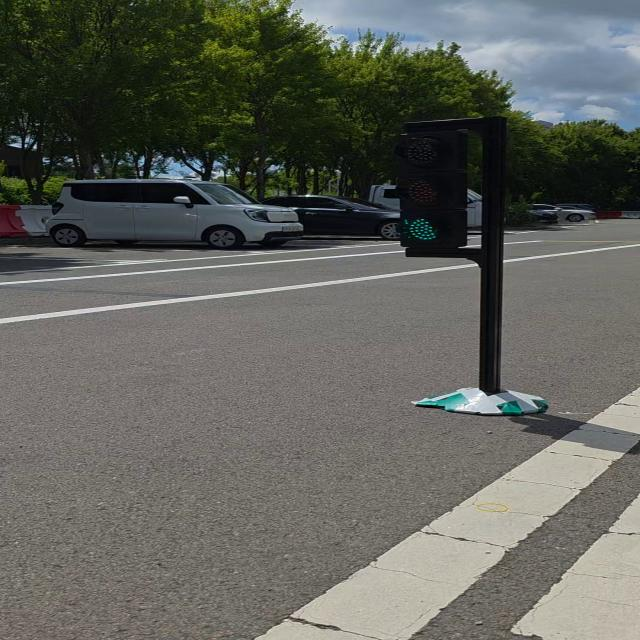green: (392, 129, 472, 256)
